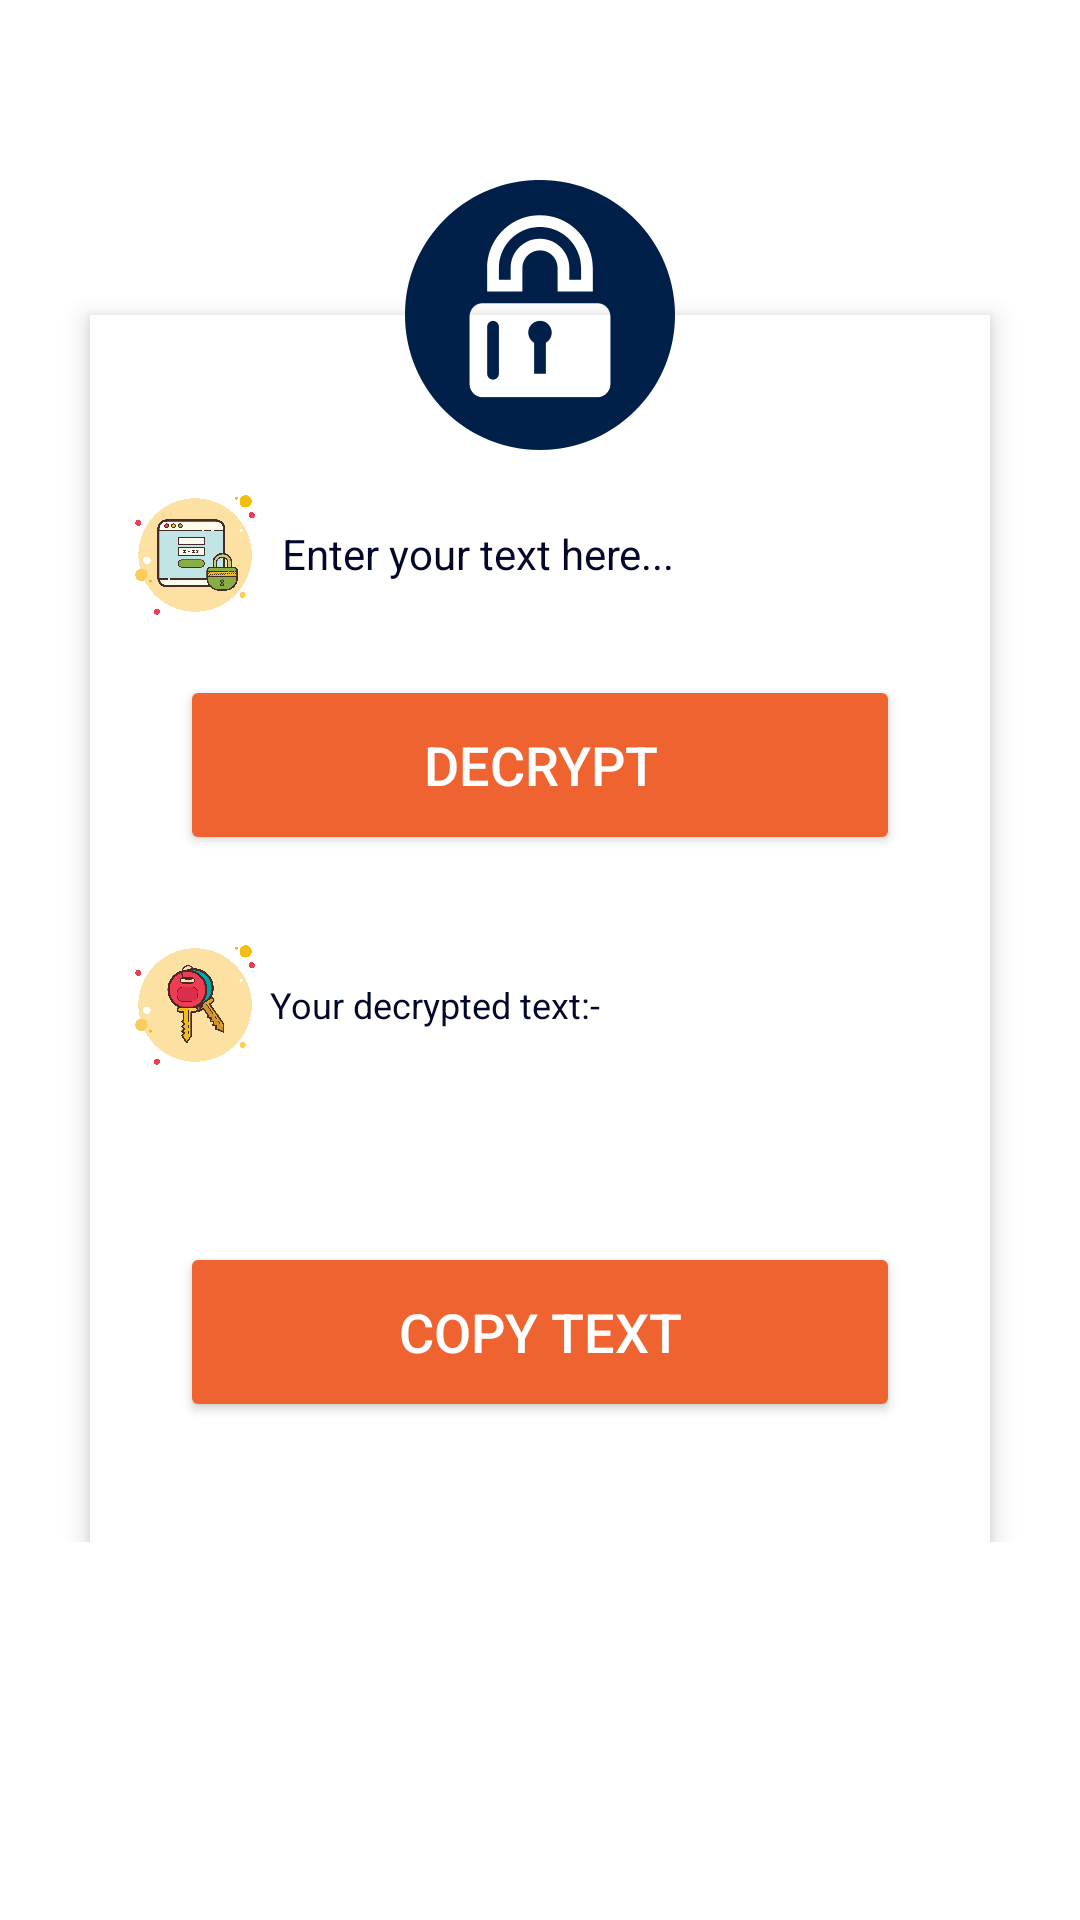

Where to tap for icons on this 1080 × 1920 app screen, as point (x, y):
cryptable: point (540, 315)
enter code: point (195, 1005)
